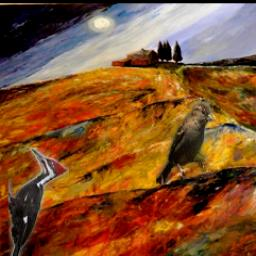Sparrow: (156, 102, 214, 185)
Woodpecker: (7, 149, 68, 256)
